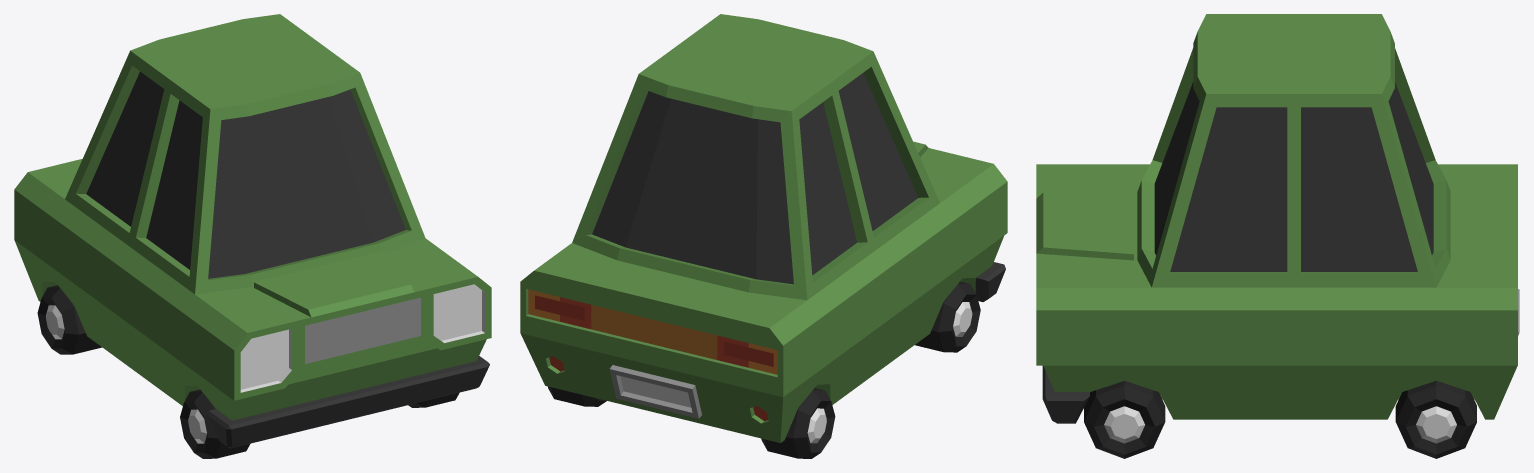
File: Car03.fbx
The picture shows the model from 3 angles, left to right: view 1: azimuth 30°, elevation 25°; view 2: azimuth 150°, elevation 25°; view 3: azimuth 270°, elevation 25°; orthographic projection. The views are drawn at different scales.
Parts seen in each view (by area): view 1: Car03; view 2: Car03; view 3: Car03.
Boxes of the visible parts, box(x1,y1,x2,y2) form: Car03: box(14, 14, 491, 458); Car03: box(520, 14, 1007, 458); Car03: box(1036, 14, 1519, 458).
Size of the model in its own units: 1.97 by 2.22 by 2.85.
Materials: 1 (1 with a texture image).
